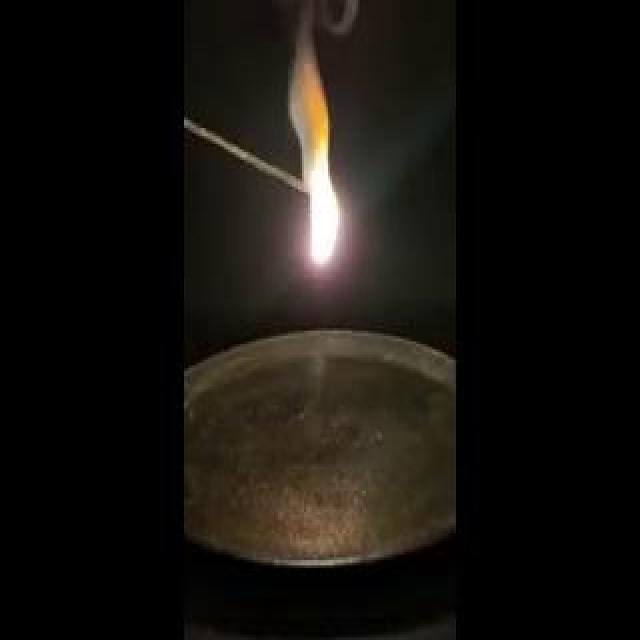Fire: (64, 178, 310, 208)
